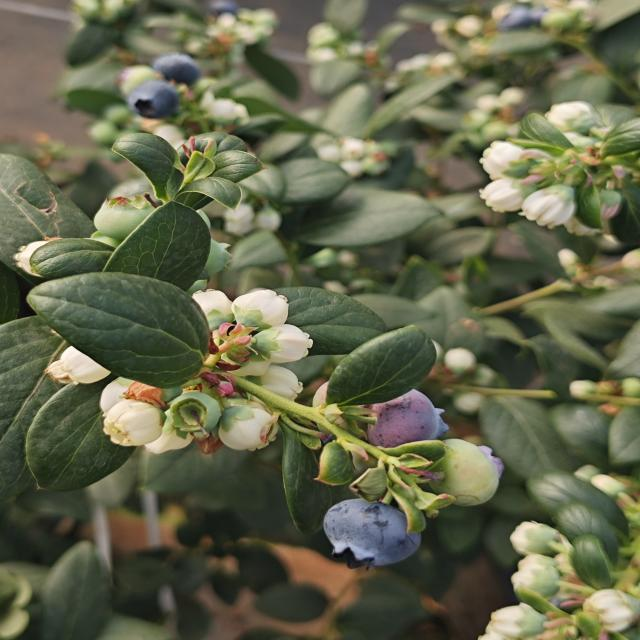ripe: (319, 497, 424, 573), (362, 388, 451, 450), (124, 78, 182, 122), (489, 0, 554, 33), (150, 51, 204, 88)
